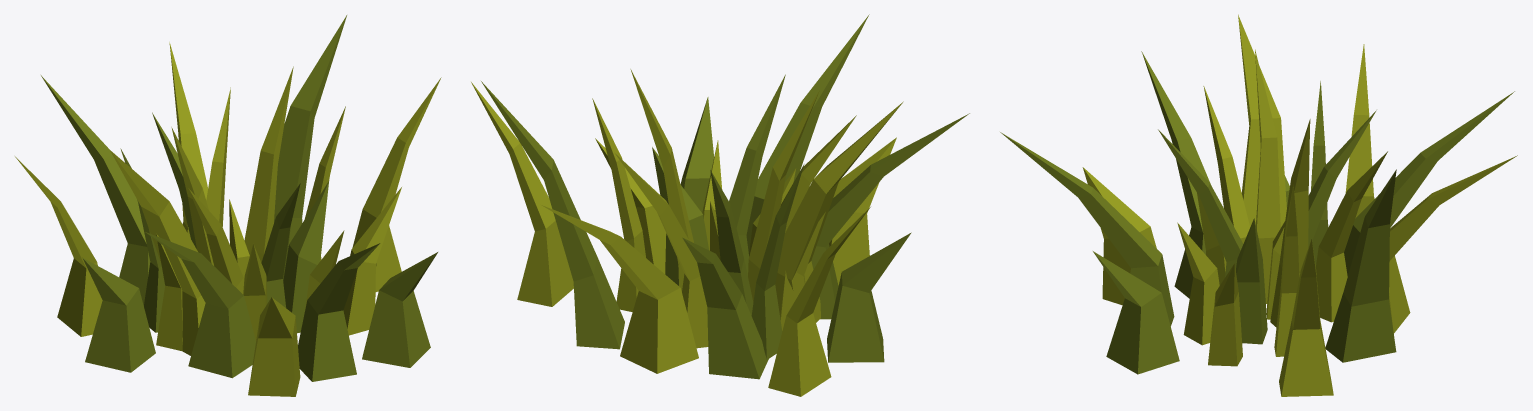
Rendered from Grass_4.fbx.
3 views of the same model, side by side, from view 1: azimuth 30°, elevation 25°; view 2: azimuth 150°, elevation 25°; view 3: azimuth 270°, elevation 25° (orthographic). The views are drawn at different scales.
Visible parts, largest first — view 1: Grass_4; view 2: Grass_4; view 3: Grass_4.
Boxes of the visible parts, <box> form: Grass_4: <box>15,15,441,396</box>; Grass_4: <box>471,14,969,396</box>; Grass_4: <box>1000,14,1517,396</box>.
Bounding box in the file's own units: 0.9542 × 0.5337 × 1.07.
